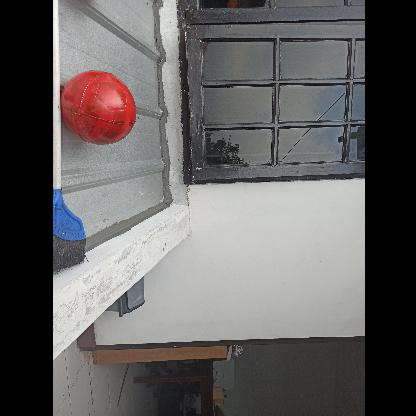red_ball: (61, 70, 136, 146)
